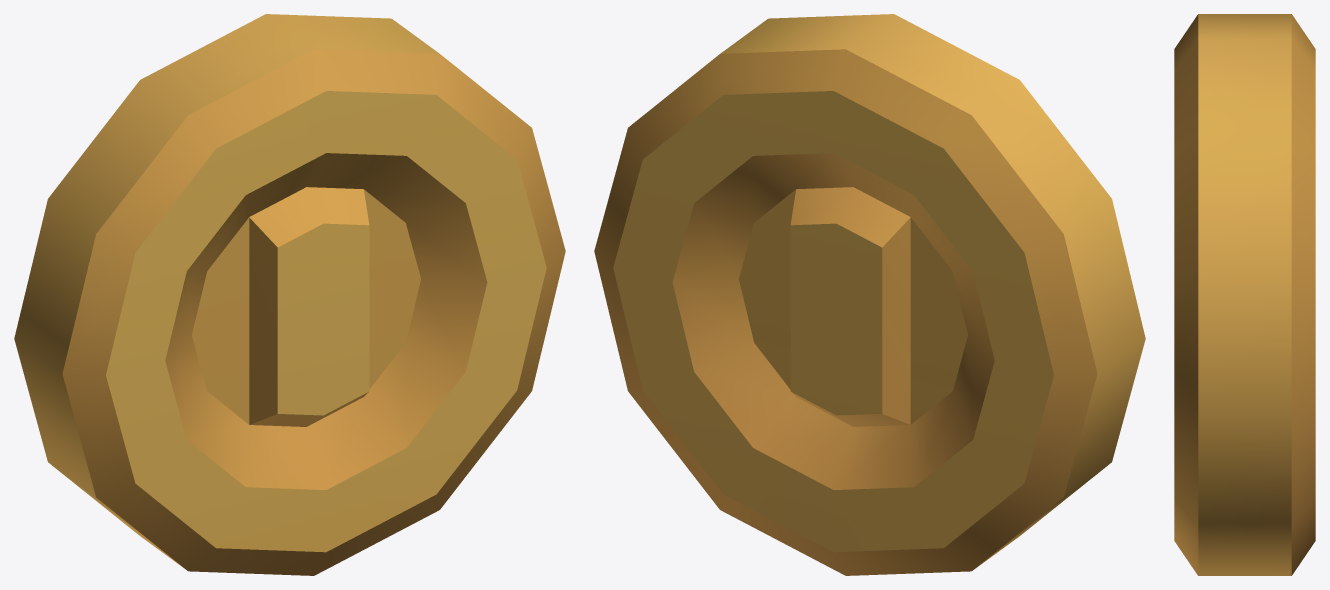
The model's file is money_single.glb.
The picture shows the model from 3 angles, left to right: view 1: azimuth 30°, elevation 25°; view 2: azimuth 150°, elevation 25°; view 3: azimuth 270°, elevation 25°; orthographic projection. The views are drawn at different scales.
Visible parts, largest first — view 1: Money_Single; view 2: Money_Single; view 3: Money_Single.
Part boxes in pixels (x1=…): Money_Single: x1=14, y1=14, x2=565, y2=575; Money_Single: x1=594, y1=14, x2=1145, y2=575; Money_Single: x1=1174, y1=14, x2=1315, y2=575.
Size of the model in its own units: 0.4 by 0.4 by 0.1.
1 material, 1 textured.
